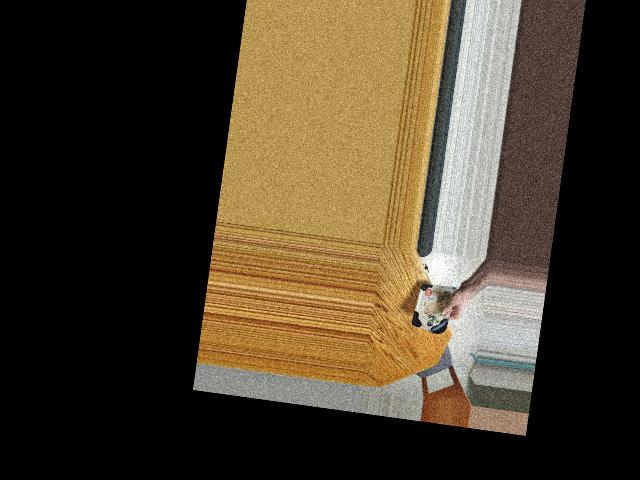cheese: (414, 276, 457, 337)
